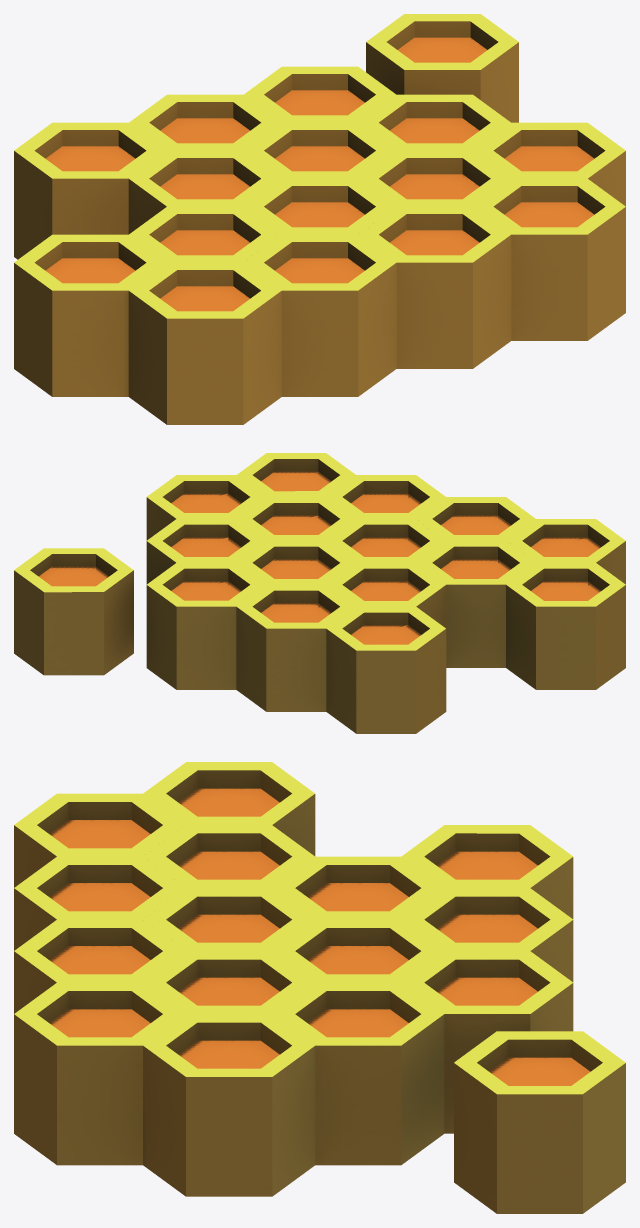
The model's file is PUSHILIN_honeycomb.obj.
3 renders of one model, top to bottom at view 1: azimuth 30°, elevation 25°; view 2: azimuth 150°, elevation 25°; view 3: azimuth 270°, elevation 25°, orthographic. The views are drawn at different scales.
Parts seen in each view (by area): view 1: honeycomb; view 2: honeycomb; view 3: honeycomb.
Part boxes in pixels (bbox=[...]): honeycomb: bbox=[14, 14, 625, 424]; honeycomb: bbox=[14, 453, 625, 733]; honeycomb: bbox=[14, 762, 625, 1213].
Size of the model in its own units: 2.06 by 0.346 by 1.6.
Materials: 1 (1 with a texture image).
